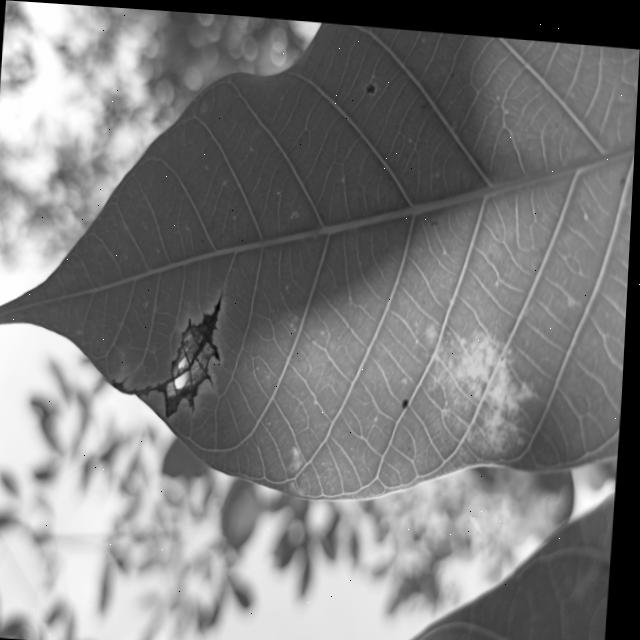Colletotrichum: (406, 392, 412, 401)
Corynespora: (166, 283, 229, 417), (116, 371, 167, 396)
